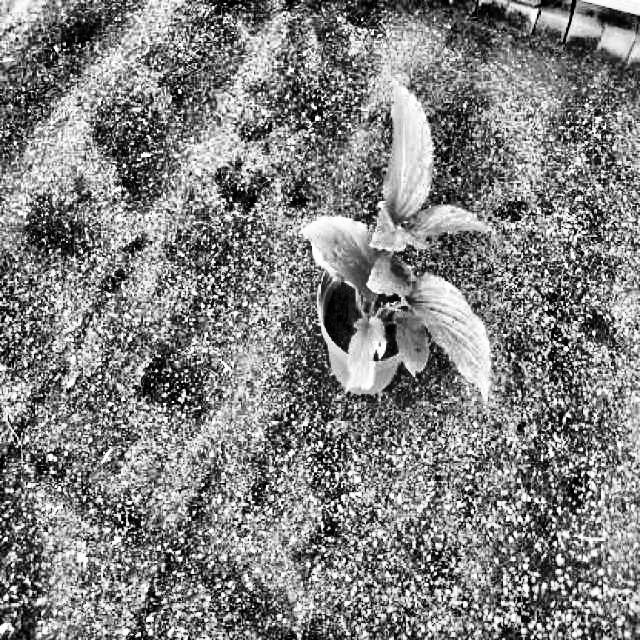plants: (306, 80, 492, 402)
